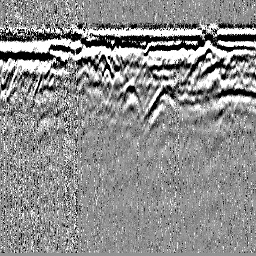cavity: (118, 81, 143, 116)
